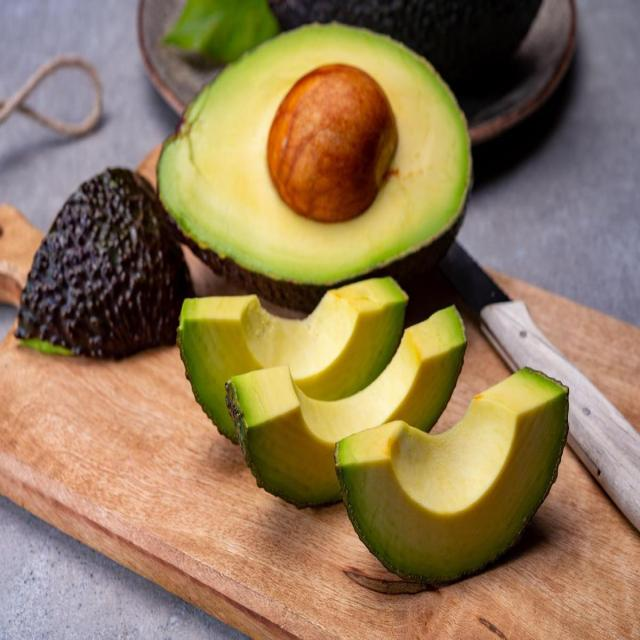aguacate: (152, 20, 487, 294)
